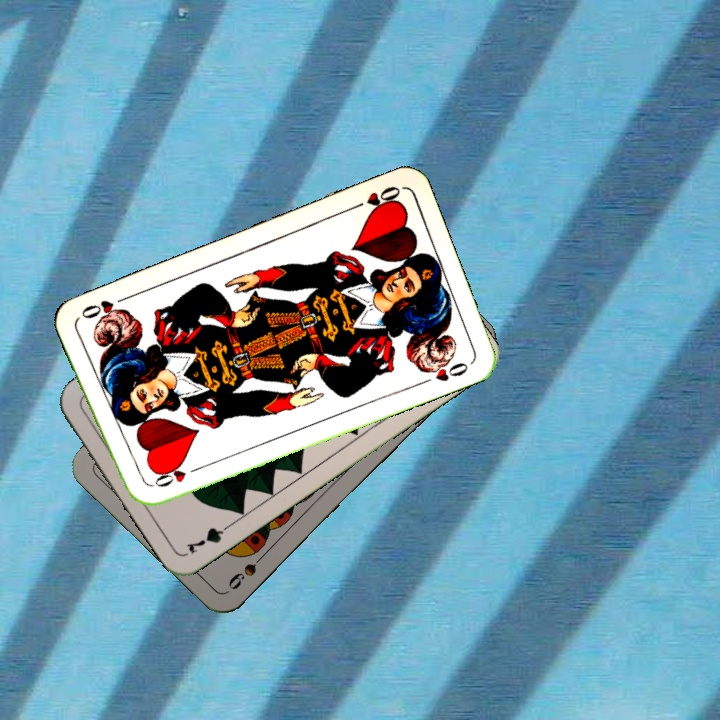G7: (182, 517, 237, 557)
HO: (347, 182, 403, 216), (143, 459, 201, 490)
S9: (223, 546, 271, 593)
